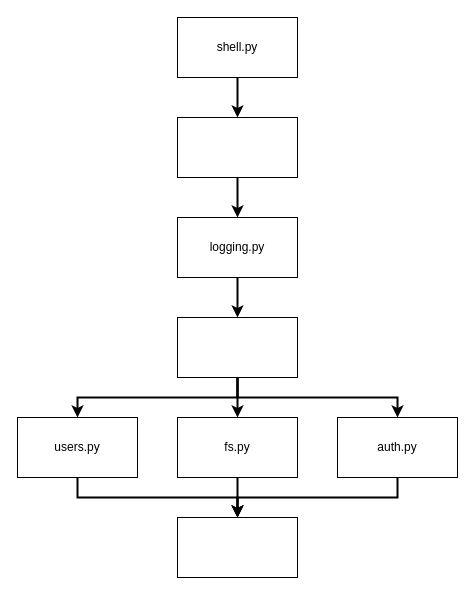
Some shapes in this 475 by 595 pixel diagram are drawn without their labels. Each missing label, with the centre of its shape:
db.py: the point at 237,547
perms.py: the point at 237,347
syscalls.py: the point at 237,147
